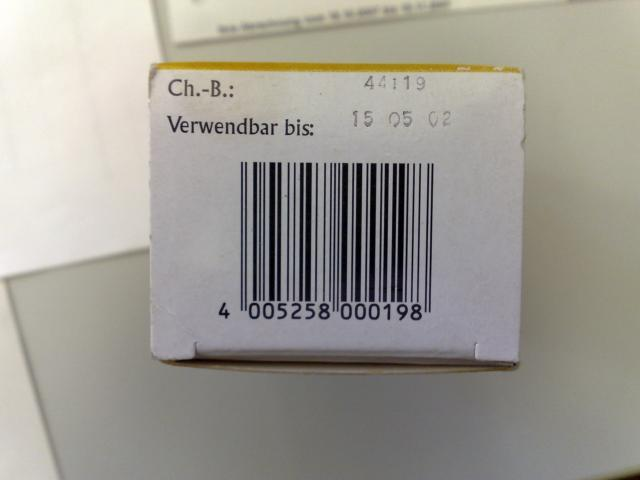Barcode: (203, 156, 441, 337)
